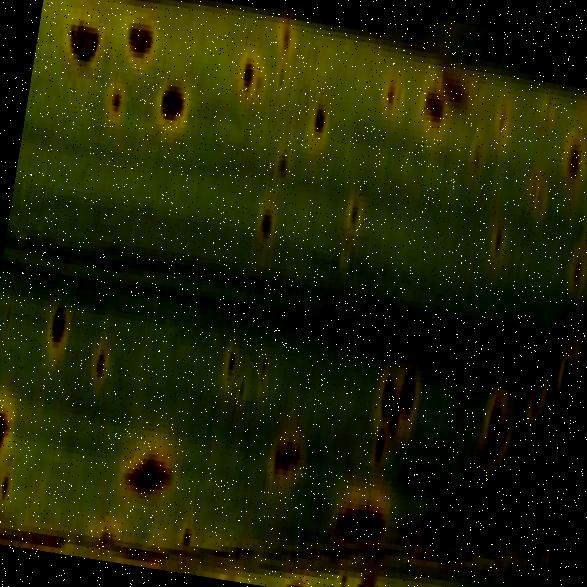Brown_Spot: (354, 324, 432, 472), (468, 348, 520, 530), (114, 422, 187, 526), (366, 40, 411, 172), (330, 472, 394, 554), (548, 108, 587, 241), (213, 300, 254, 422), (145, 56, 195, 156), (0, 353, 31, 505), (81, 298, 116, 429), (262, 404, 322, 479), (56, 0, 112, 79), (524, 332, 570, 427), (413, 23, 451, 128), (480, 200, 512, 308), (45, 262, 80, 360), (264, 0, 301, 92), (334, 170, 372, 258), (250, 169, 283, 261), (460, 110, 492, 191), (306, 75, 333, 155), (122, 10, 160, 66), (236, 34, 261, 109)
